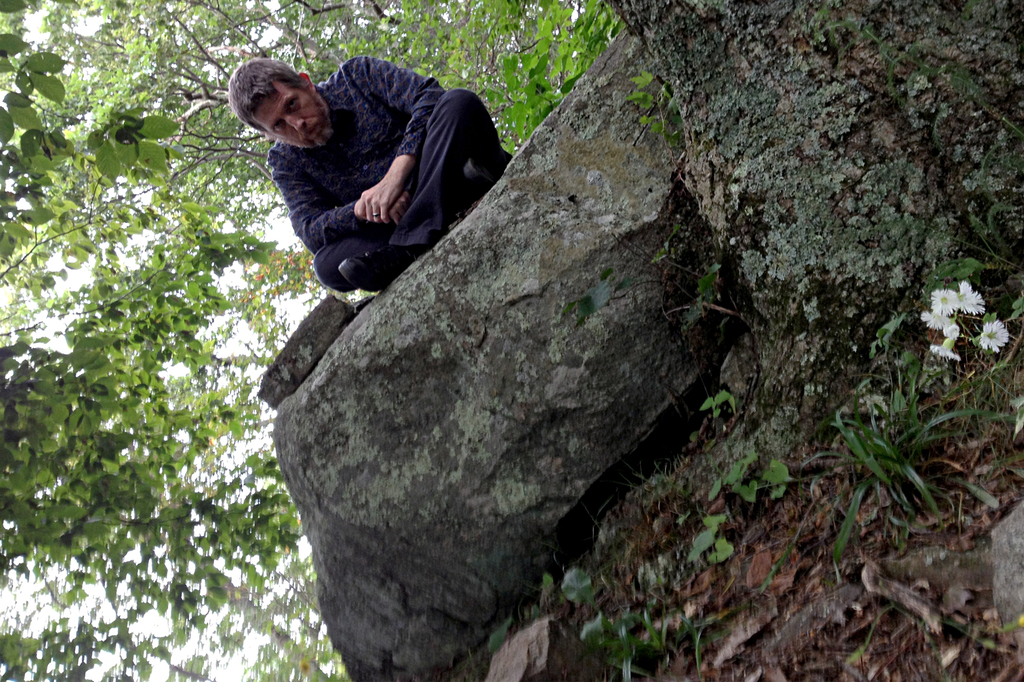Human_hand: (337, 134, 417, 221), (390, 189, 409, 221)
